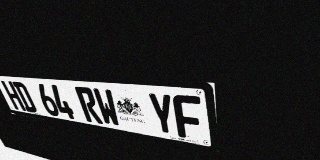4: (48, 84, 76, 119)
6: (34, 83, 61, 117)
D: (12, 81, 38, 113)
F: (172, 94, 204, 141)
H: (0, 81, 26, 111)
R: (74, 86, 103, 124)
W: (92, 88, 122, 127)
Y: (146, 92, 178, 137)
